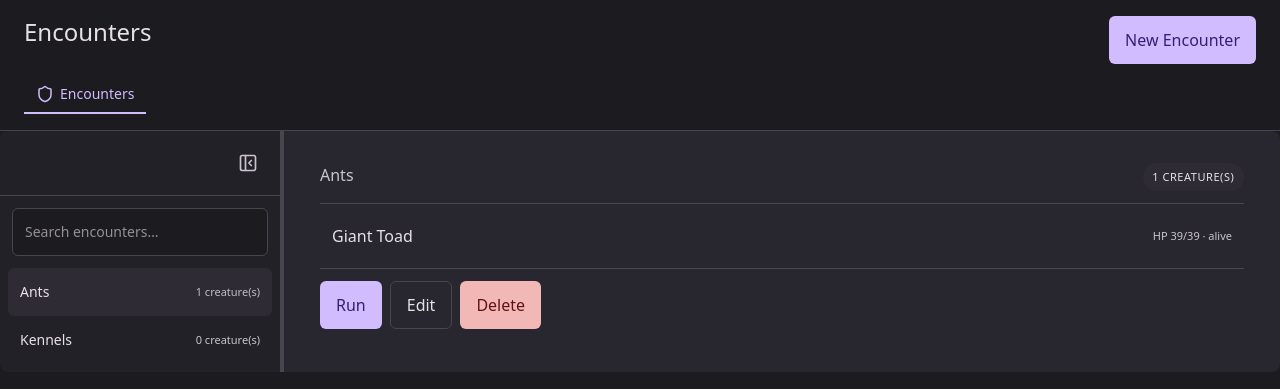
Test: EncounterBrowserPage › selecting an encounter shows its creature list
Step 1. Click the text "Kennels" → (46, 340), box 20,330 -> 72,350
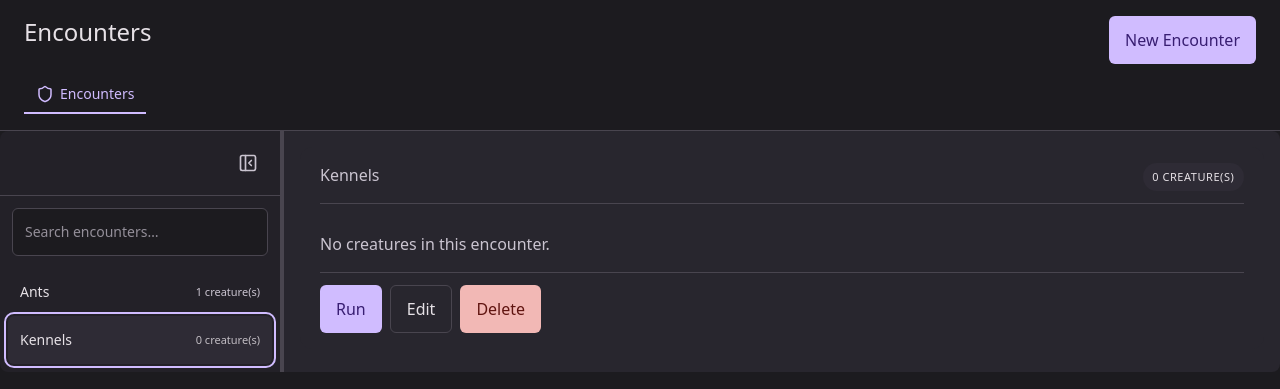
Now the text "No creatures in this encounter." is shown, box 320,233 -> 550,255
